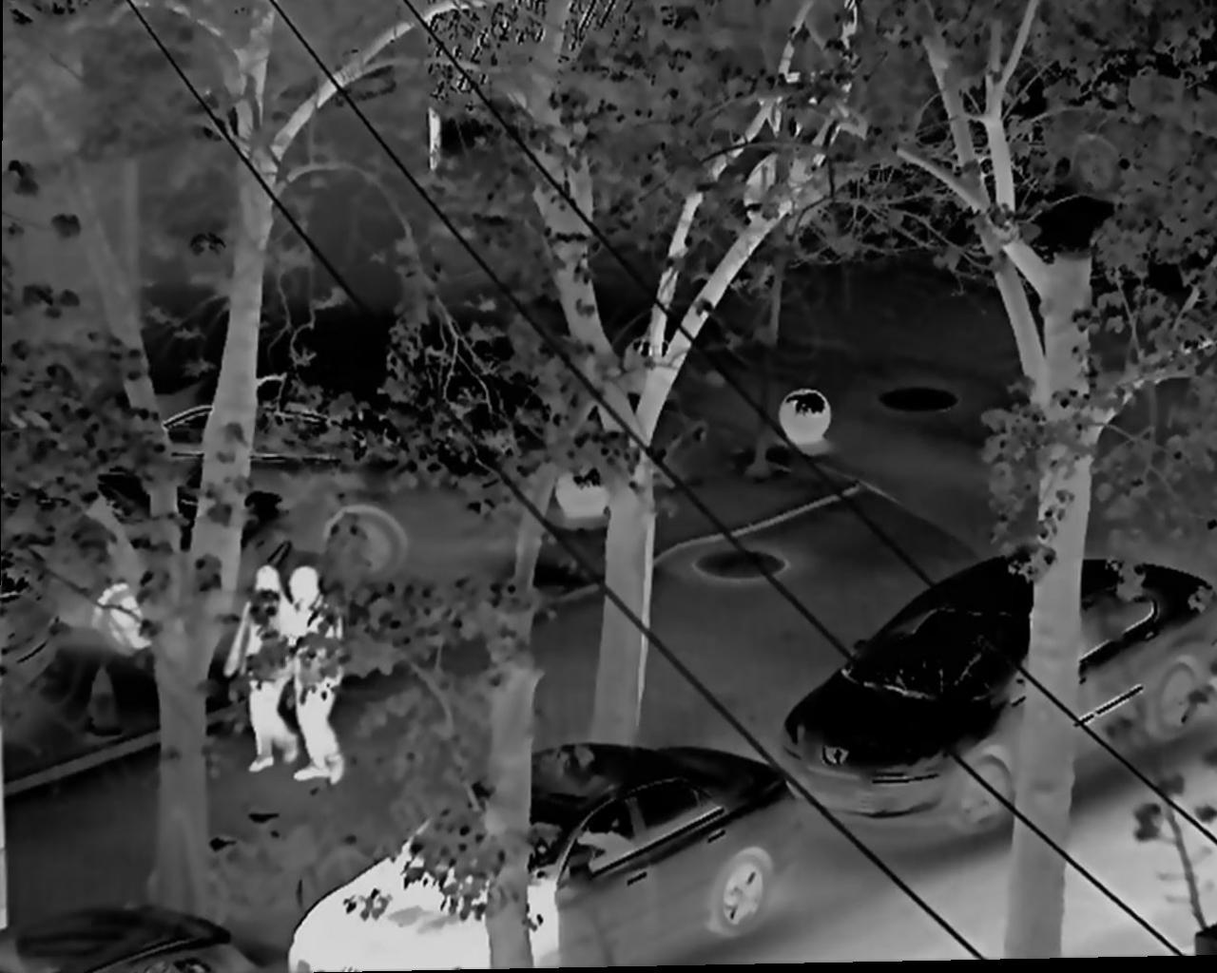person: (220, 658, 299, 771), (287, 671, 346, 787)
